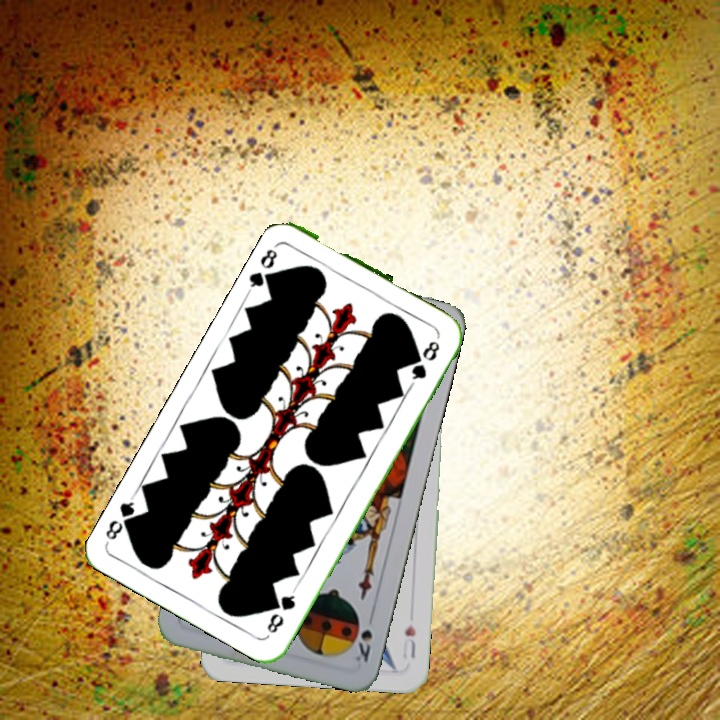G8: (244, 239, 281, 293), (263, 584, 299, 636)
HU: (398, 621, 418, 662)
SK: (351, 608, 377, 665)
